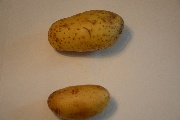potato: (48, 10, 126, 53), (47, 86, 110, 118)
